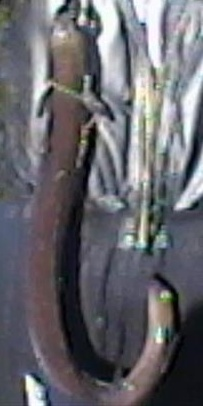Anguilla anguilla: (20, 20, 183, 406)
